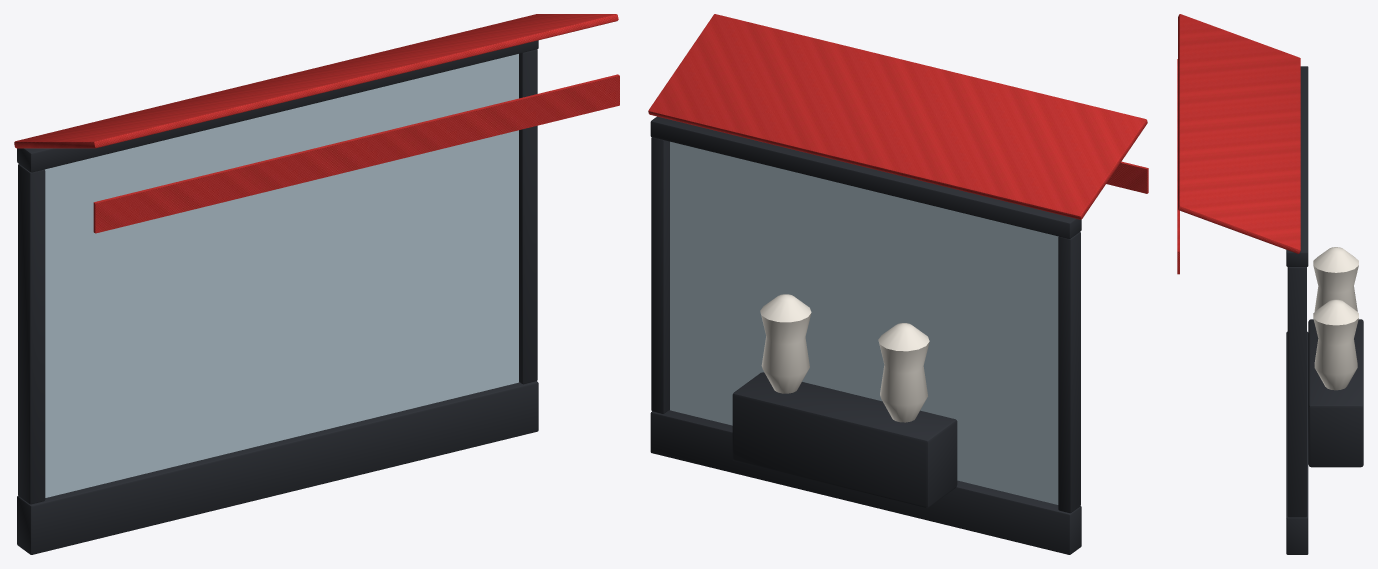
The model's file is fachada-vitrine-30.glb.
3 views of the same model, side by side, from view 1: azimuth 30°, elevation 25°; view 2: azimuth 150°, elevation 25°; view 3: azimuth 270°, elevation 25° (orthographic). The views are drawn at different scales.
Visible parts, largest first — view 1: vidro, soleira, sanefa, toldo, coluna, coluna.001, verga; view 2: vidro, toldo, expositor, soleira, verga, coluna, coluna.001, busto, busto.001, sanefa; view 3: toldo, expositor, coluna.001, busto.001, busto, verga, soleira, sanefa.
Part boxes in pixels (bbox=[...]): vidro: bbox=[45, 54, 518, 497]; soleira: bbox=[17, 381, 538, 554]; sanefa: bbox=[93, 74, 619, 233]; toldo: bbox=[14, 14, 618, 148]; coluna: bbox=[18, 164, 45, 504]; coluna.001: bbox=[519, 49, 537, 384]; verga: bbox=[17, 40, 538, 172]; vidro: bbox=[670, 141, 1058, 504]; toldo: bbox=[648, 14, 1147, 219]; expositor: bbox=[732, 372, 957, 507]; soleira: bbox=[650, 410, 1081, 554]; verga: bbox=[650, 116, 1081, 238]; coluna: bbox=[1058, 232, 1080, 513]; coluna.001: bbox=[651, 137, 669, 413]; busto: bbox=[878, 323, 929, 422]; busto.001: bbox=[760, 294, 811, 393]; sanefa: bbox=[1106, 161, 1148, 193]; toldo: bbox=[1178, 14, 1300, 253]; expositor: bbox=[1308, 319, 1363, 467]; coluna.001: bbox=[1287, 267, 1306, 517]; busto.001: bbox=[1313, 299, 1358, 390]; busto: bbox=[1313, 247, 1358, 311]; verga: bbox=[1286, 66, 1308, 266]; soleira: bbox=[1286, 331, 1308, 554]; sanefa: bbox=[1177, 59, 1179, 274].
Size of the model in its own units: 3.3 by 2.81 by 1.35.
4 materials, 1 textured.
